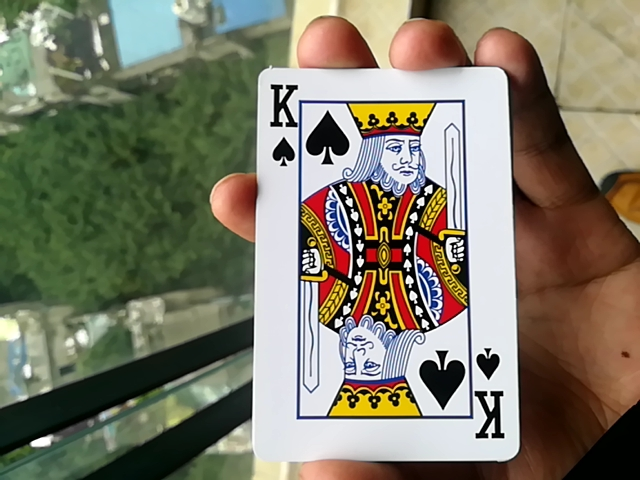ht k: (242, 69, 511, 463)
